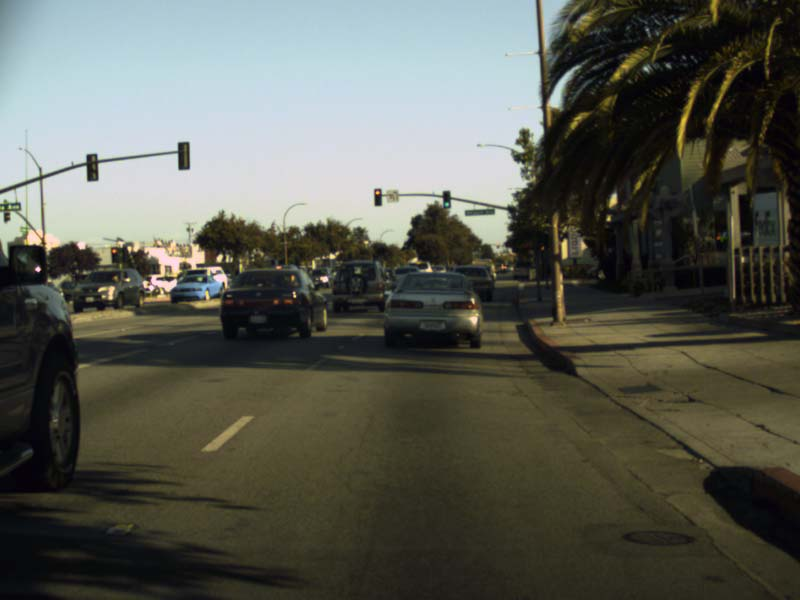Green: (442, 190, 450, 208)
Red: (374, 188, 382, 206)
